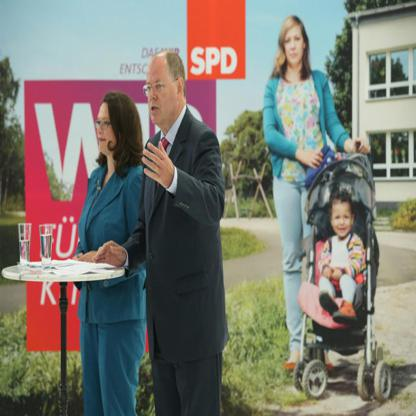face: (146, 68, 175, 124), (98, 105, 119, 153), (331, 198, 353, 240), (284, 23, 305, 64)
